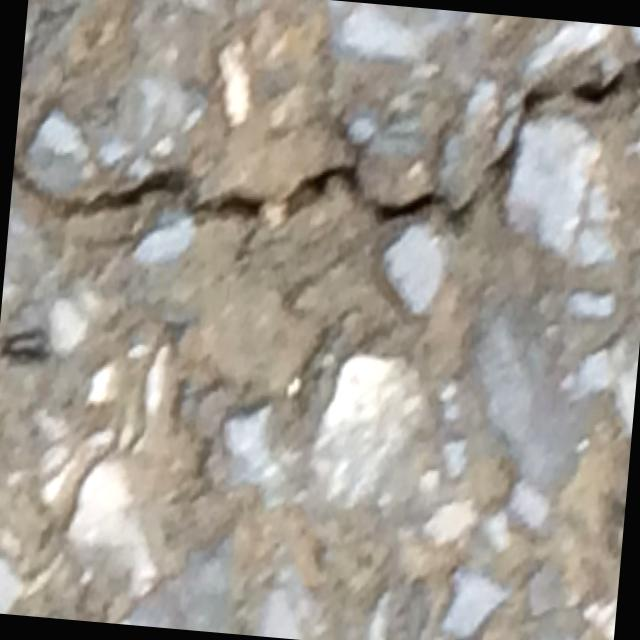crack: (10, 0, 640, 280)
